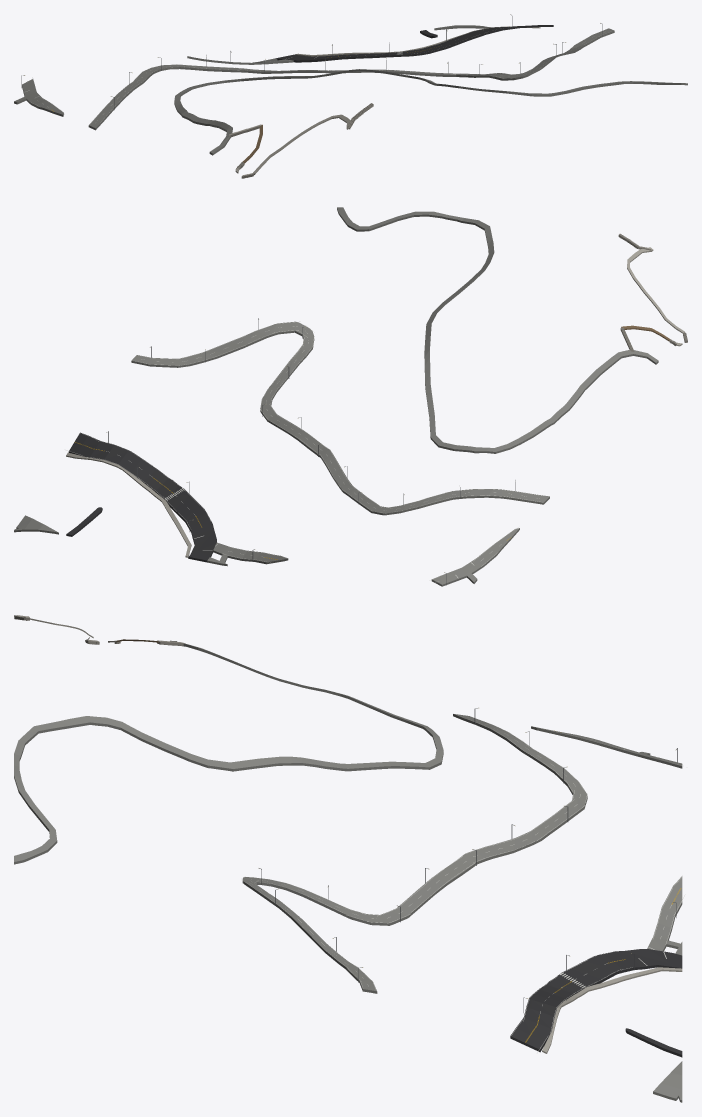
3 views of the same model, one above another, from view 1: azimuth 30°, elevation 25°; view 2: azimuth 150°, elevation 25°; view 3: azimuth 270°, elevation 25° (orthographic). The views are drawn at different scales.
Bounding box in the file's own units: 298 × 125 × 294.
